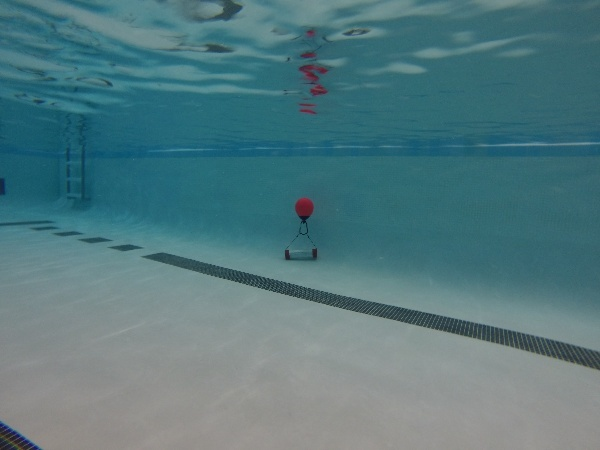buoy_red: (295, 196, 314, 222)
